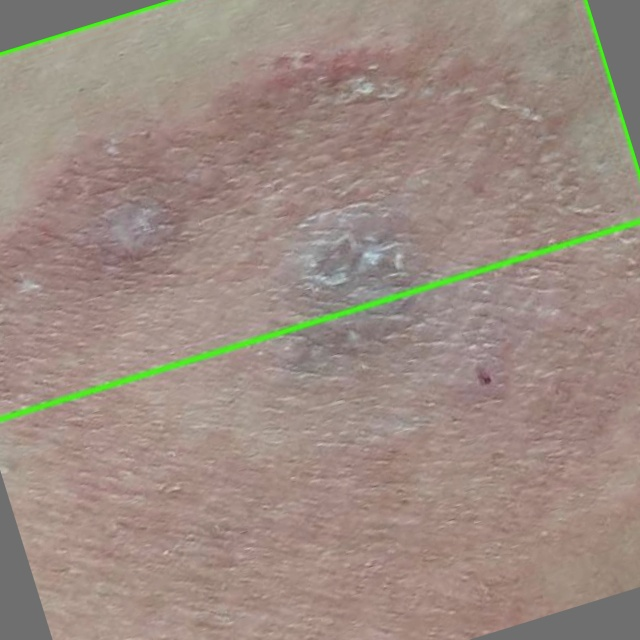Tinea Corporis: (0, 0, 639, 419)
